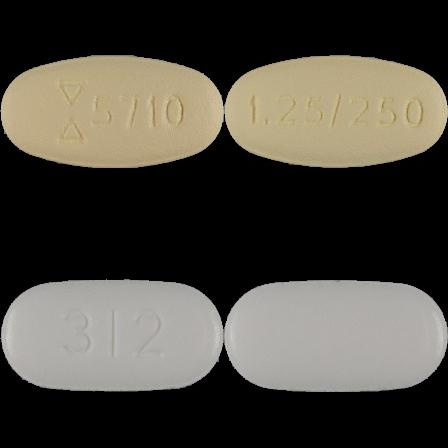54868-5185: (0, 0, 224, 224)
